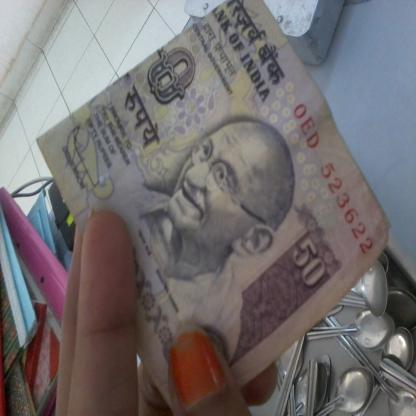Old50Front: (35, 0, 392, 416)
